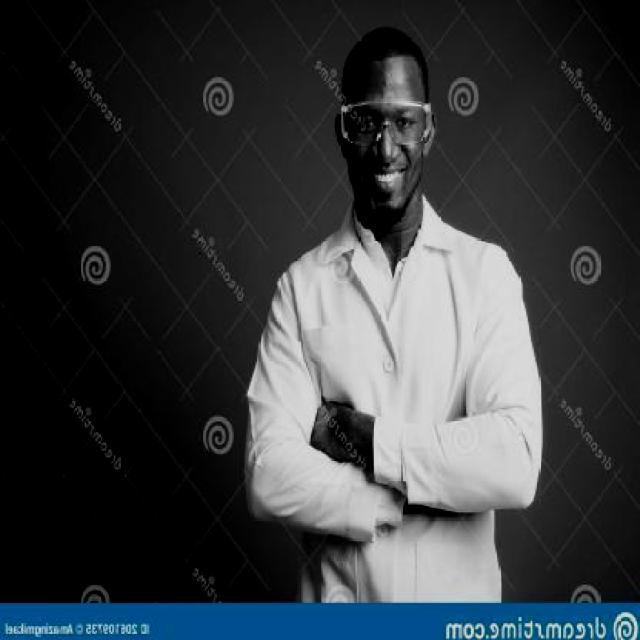face_nomask: (349, 106, 428, 202)
glasses: (338, 98, 437, 151)
head_nohelmet: (339, 24, 428, 82)
person: (244, 36, 562, 604)
